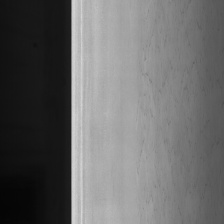silk_spot: (136, 3, 216, 207)
